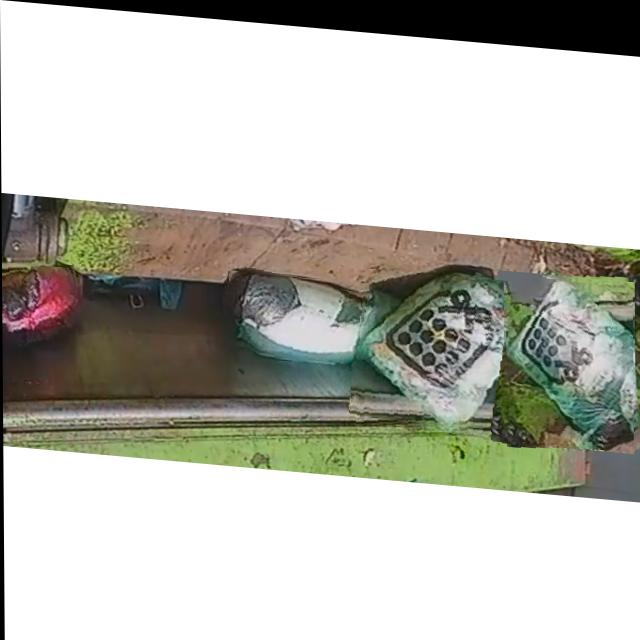general_trashbag: (358, 267, 523, 420), (505, 268, 633, 439), (228, 268, 389, 359)
other_trashbag: (2, 265, 75, 337)
